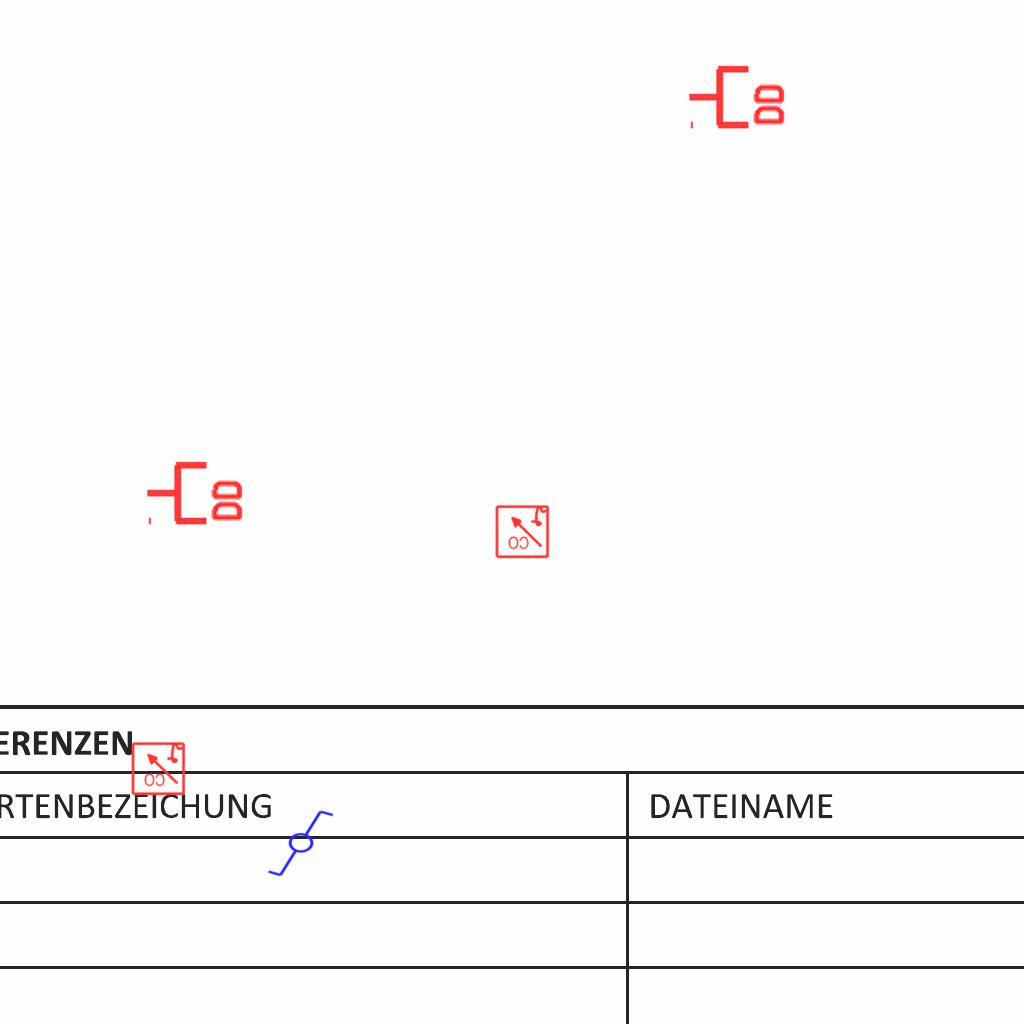Datenanschluss_zweifach: (144, 457, 247, 526), (686, 61, 789, 130)
ROA_Rauchmelder_optisch_mit_Signalgeber_(Sockelsirene): (494, 503, 550, 559), (130, 740, 186, 796)
Wechselschalter: (266, 808, 344, 880)
